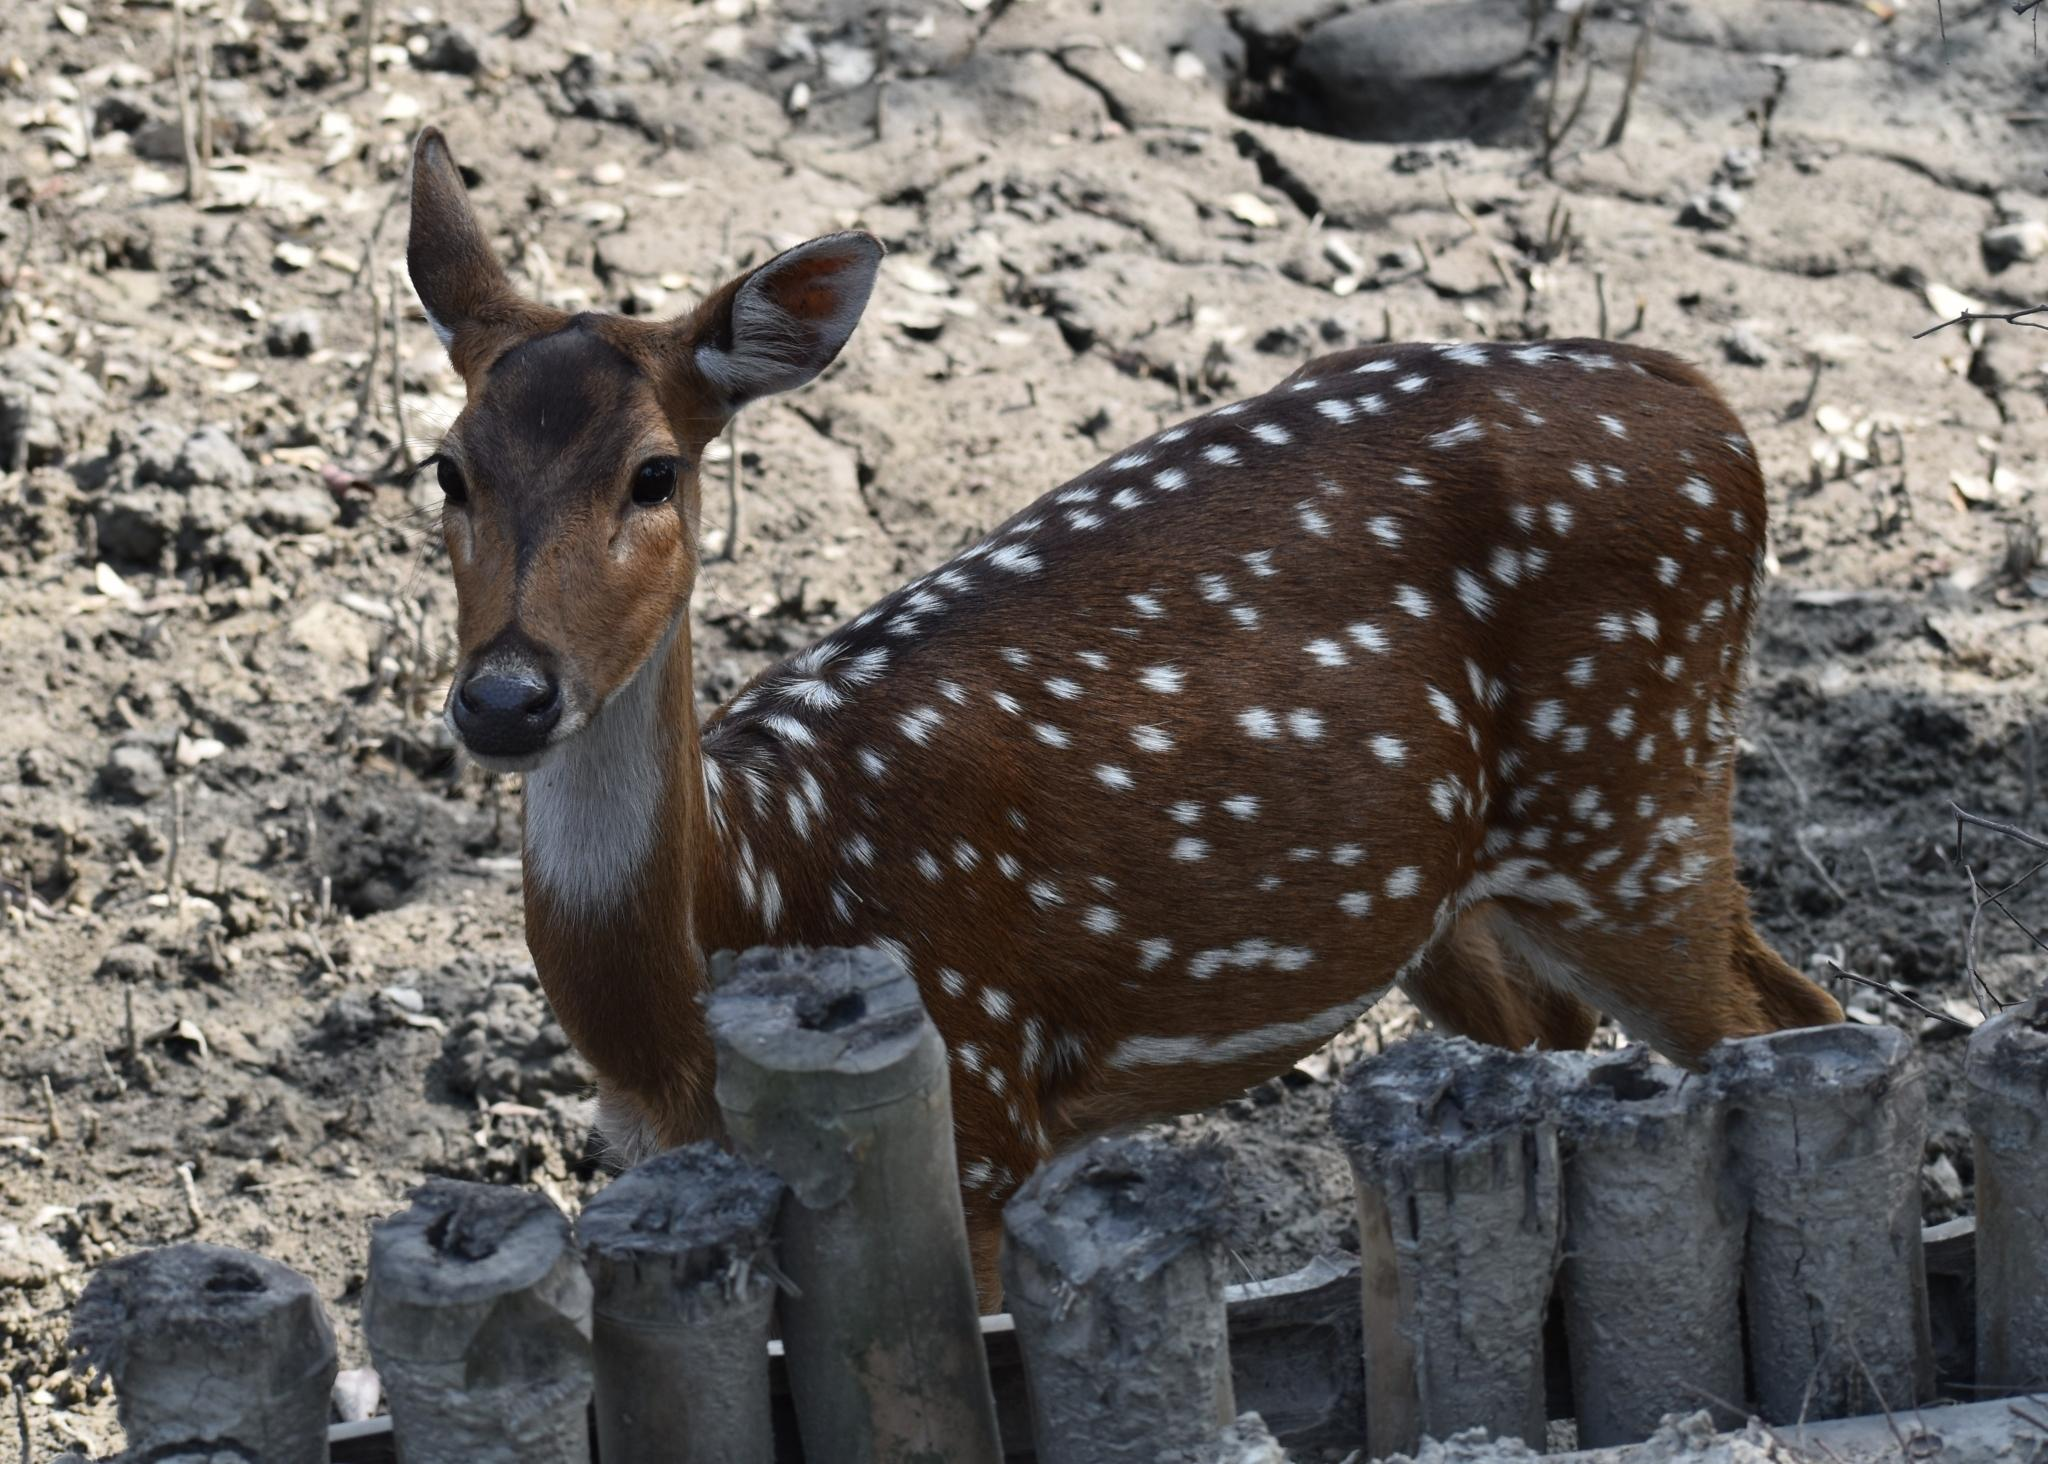Deer: (409, 127, 1841, 1268)
